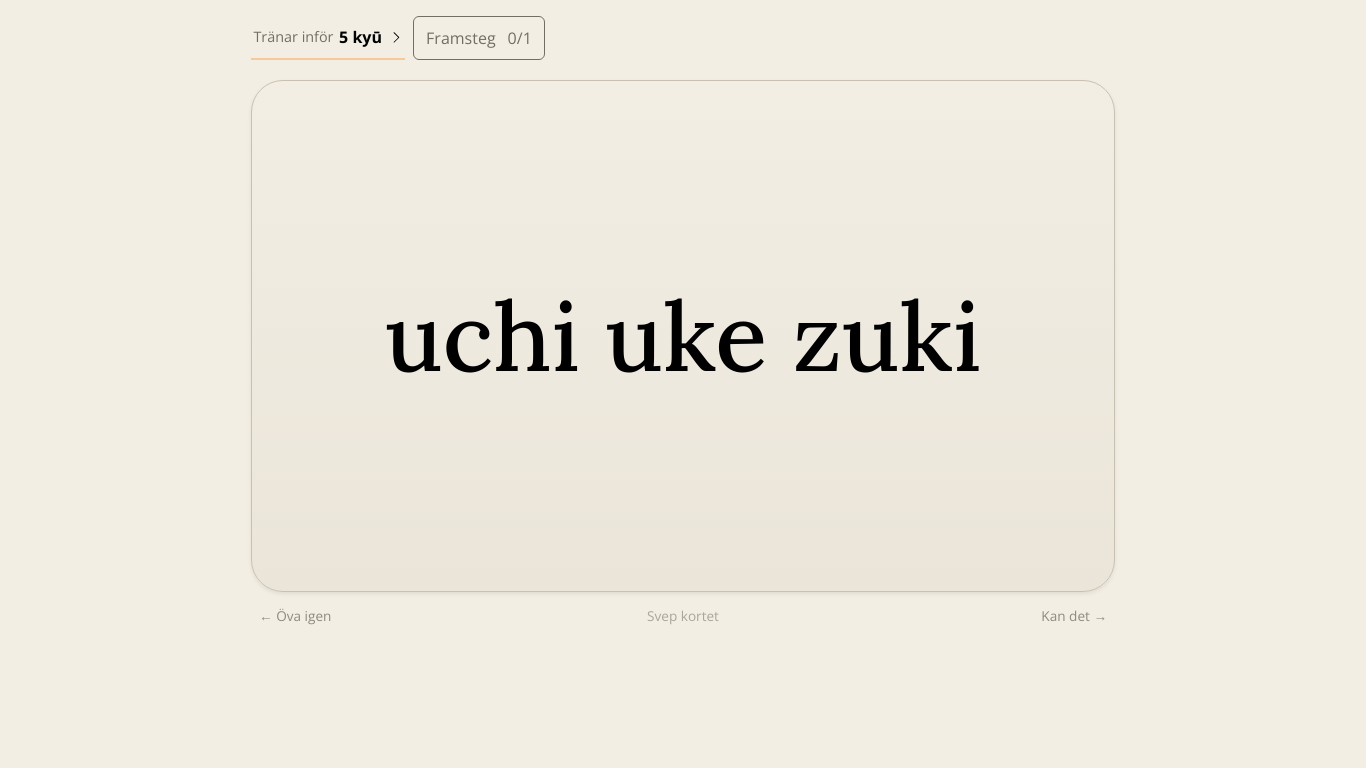
shows progress per grade and can reset every Hokei card without resetting word cards
This screenshot has width=1366, height=768.
Click the button "Framsteg 0/1" at point(479, 38), box 413,16 -> 545,60
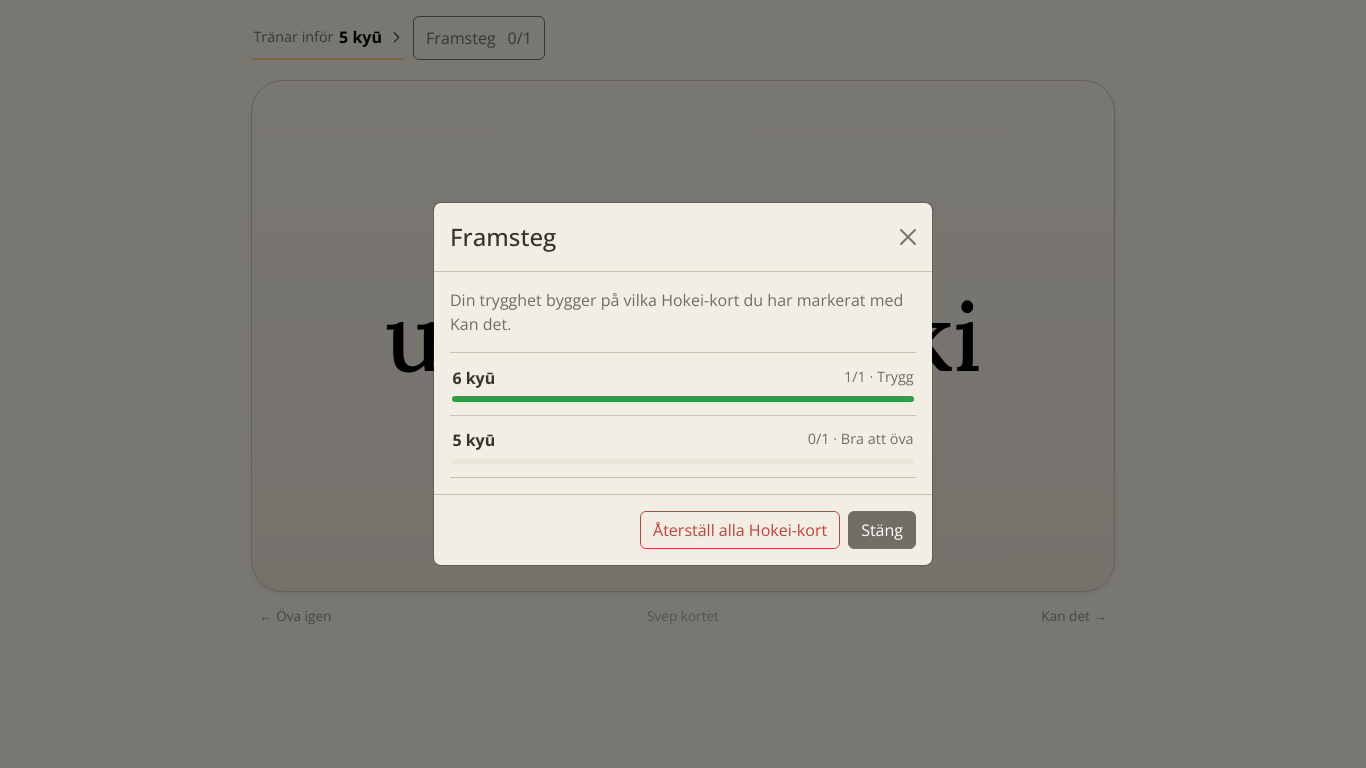
expect the list item "6 kyū 1/1 · Trygg" is shown: met, box 452,367 -> 914,402
expect the list item "5 kyū 0/1 · Bra att öva" is shown: met, box 450,414 -> 916,477
Click the button "Återställ alla Hokei-kort" at point(740, 530), box 640,511 -> 840,549
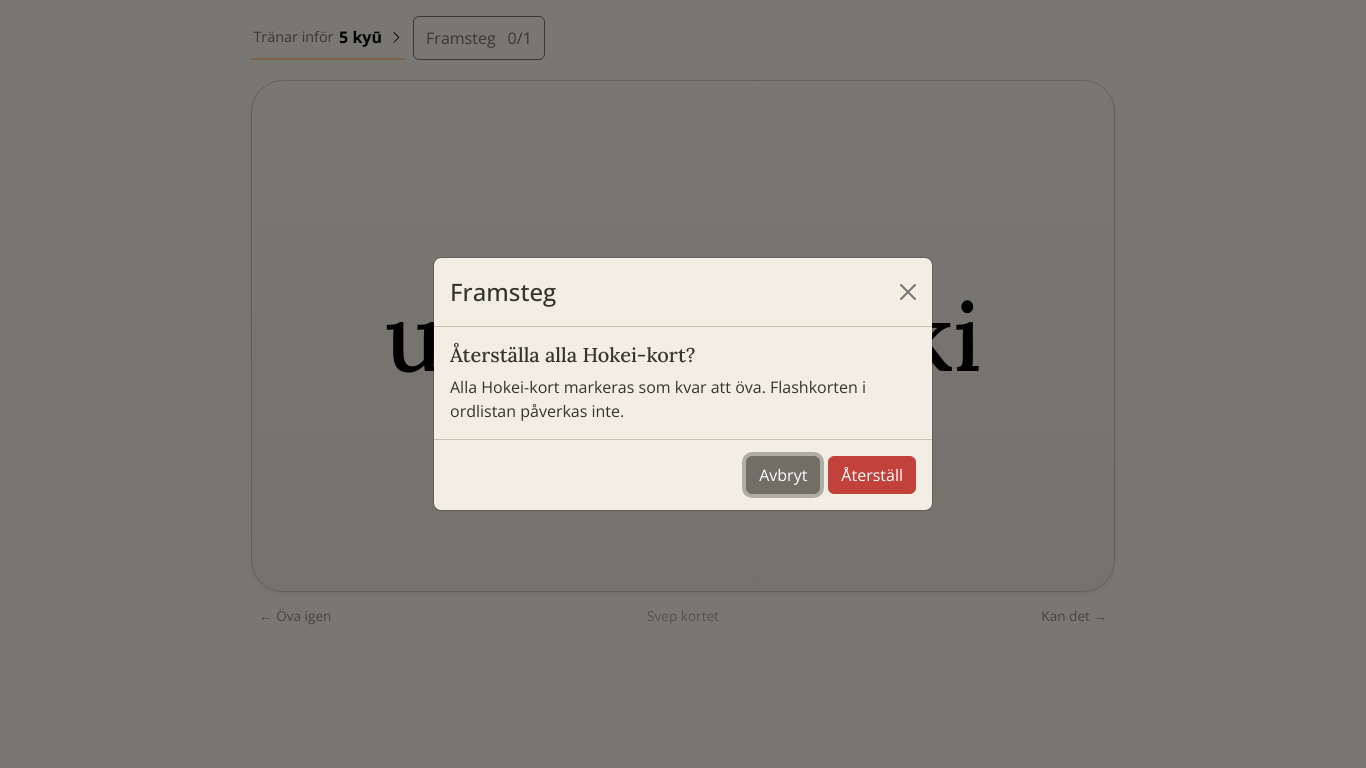
expect the heading "Återställa alla Hokei-kort?" is shown: met, box 450,342 -> 696,367
Click the button "Återställ" at point(872, 475), box 828,456 -> 916,494
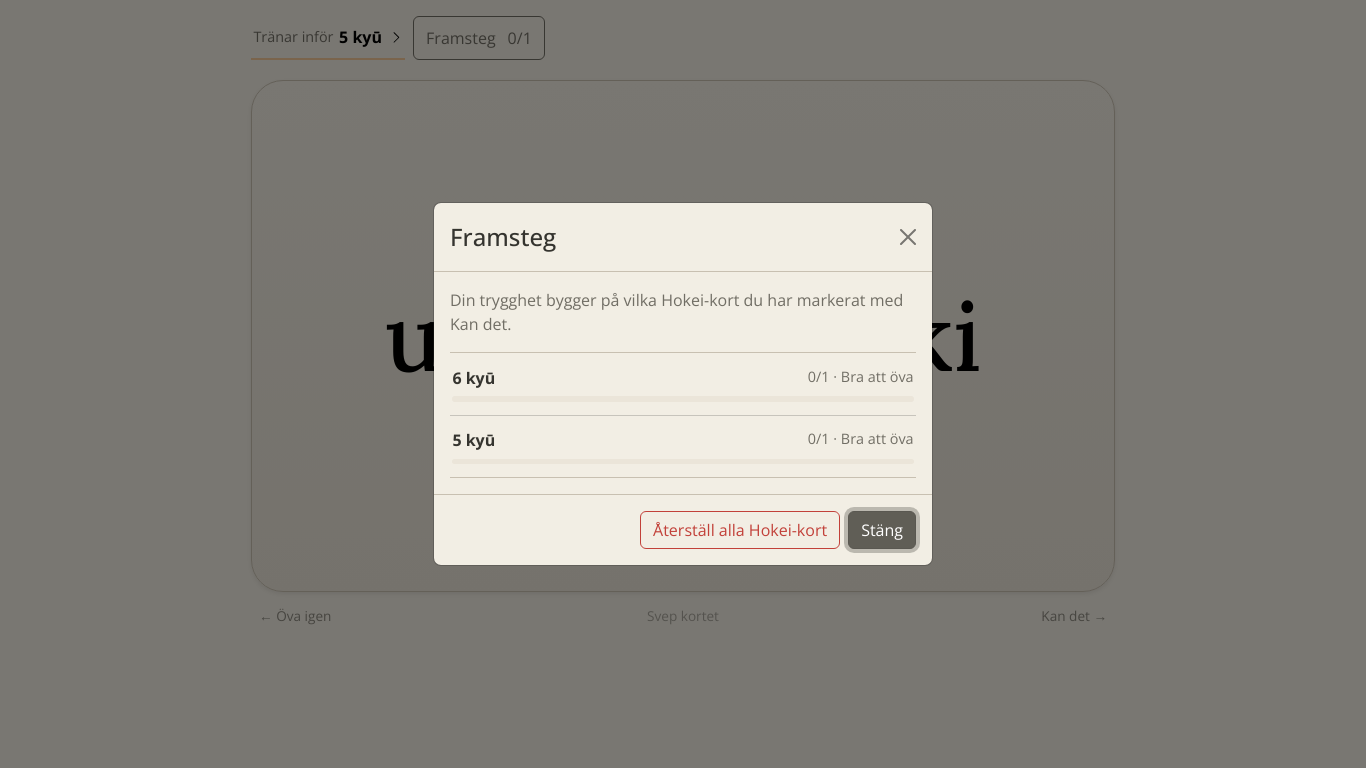
expect the list item "6 kyū 0/1 · Bra att öva" is shown: met, box 452,367 -> 914,402
